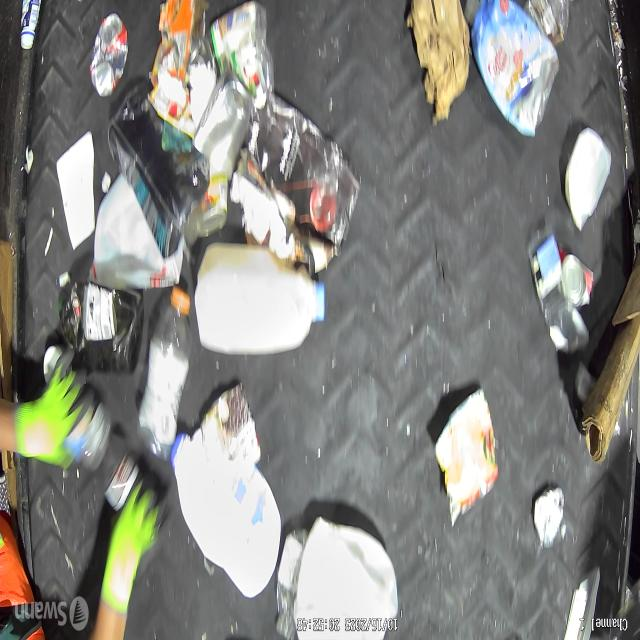can: (192, 72, 252, 180), (90, 11, 128, 100), (198, 174, 228, 238), (561, 255, 586, 307)
milk_jug: (170, 432, 282, 601), (194, 244, 326, 356), (292, 517, 398, 640), (88, 175, 182, 292)
plastic_bottle: (137, 287, 192, 462)
